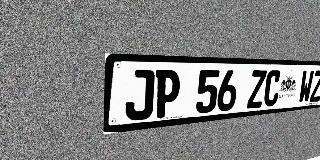5: (195, 70, 220, 114)
6: (216, 70, 239, 112)
C: (263, 70, 282, 107)
J: (125, 70, 155, 121)
P: (153, 70, 181, 118)
W: (298, 70, 314, 103)
Z: (247, 70, 267, 109), (309, 70, 320, 102)
